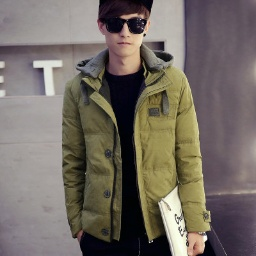face: (94, 2, 154, 57)
